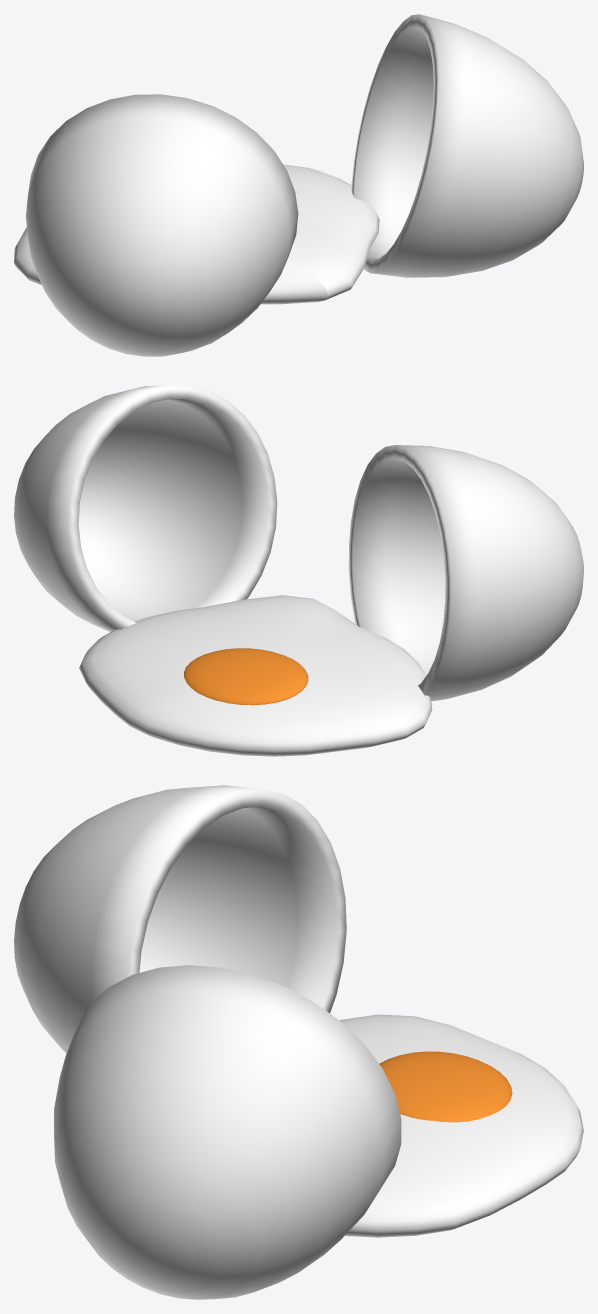
File: PoorEgg.fbx
3 renders of one model, top to bottom at view 1: azimuth 30°, elevation 25°; view 2: azimuth 150°, elevation 25°; view 3: azimuth 270°, elevation 25°, orthographic. The views are drawn at different scales.
Visible parts, largest first — view 1: Sphere.001; view 2: Sphere.001; view 3: Sphere.001.
Part boxes in pixels (bbox=[...]): Sphere.001: bbox=[14, 14, 583, 356]; Sphere.001: bbox=[14, 385, 583, 756]; Sphere.001: bbox=[14, 785, 583, 1299].
Bounding box in the file's own units: 253 × 109 × 183.
